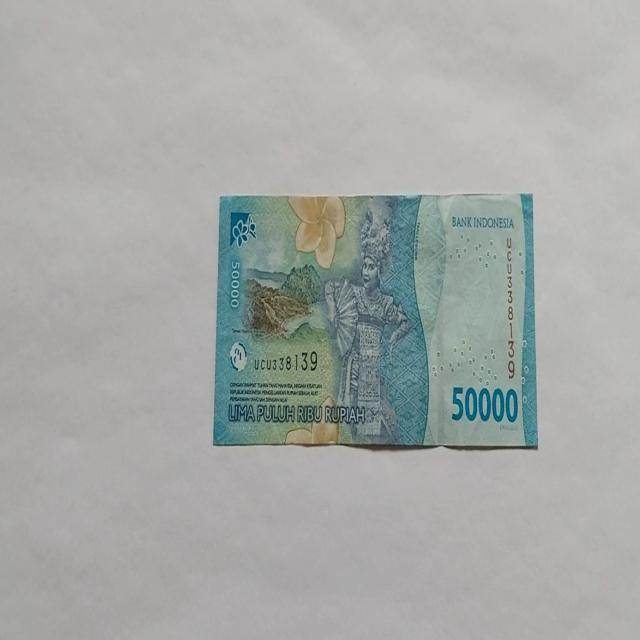lima puluh ribu rupiah: (212, 191, 538, 450)
